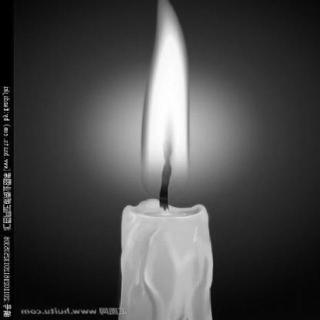Fire: (116, 1, 217, 211)
